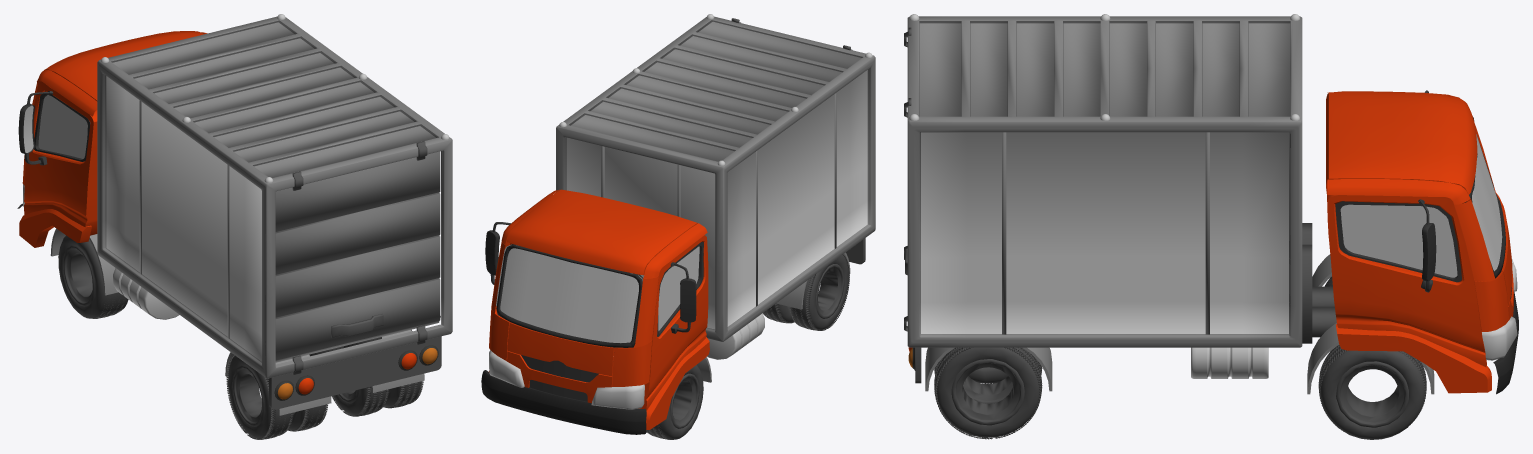
3 renders of one model, left to right at view 1: azimuth 30°, elevation 25°; view 2: azimuth 150°, elevation 25°; view 3: azimuth 270°, elevation 25°, orthographic. The views are drawn at different scales.
Visible parts, largest first — view 1: Truck_Export; view 2: Truck_Export; view 3: Truck_Export.
Boxes of the visible parts, x1=… form: Truck_Export: x1=17, y1=14, x2=452, y2=439; Truck_Export: x1=481, y1=14, x2=875, y2=439; Truck_Export: x1=904, y1=14, x2=1518, y2=439.
Size of the model in its own units: 2.51 by 2.94 by 4.92.
